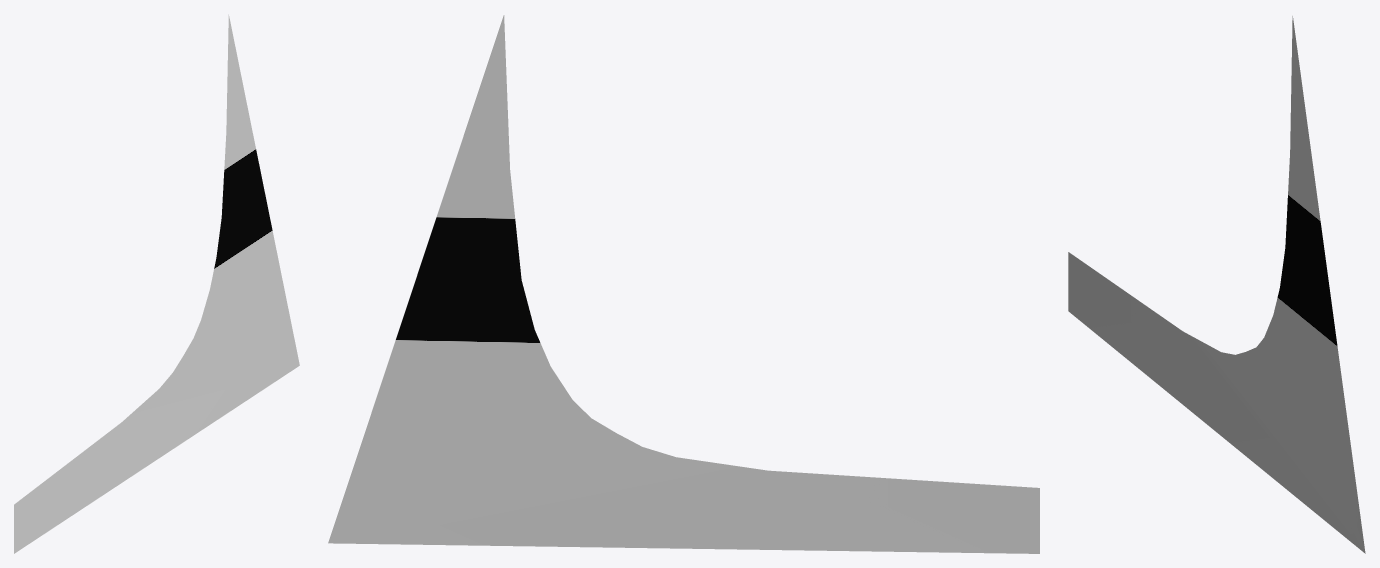
The model's file is CD_JZ_vr_arrow02.FBX.
The picture shows the model from 3 angles, left to right: view 1: azimuth 30°, elevation 25°; view 2: azimuth 150°, elevation 25°; view 3: azimuth 270°, elevation 25°; orthographic projection. The views are drawn at different scales.
Parts seen in each view (by area): view 1: CD_JZ_vr_arrow02; view 2: CD_JZ_vr_arrow02; view 3: CD_JZ_vr_arrow02.
Part boxes in pixels (x1=…): CD_JZ_vr_arrow02: x1=14, y1=14, x2=299, y2=553; CD_JZ_vr_arrow02: x1=328, y1=15, x2=1039, y2=553; CD_JZ_vr_arrow02: x1=1068, y1=16, x2=1365, y2=553.
Bounding box in the file's own units: 437 × 407 × 228.
